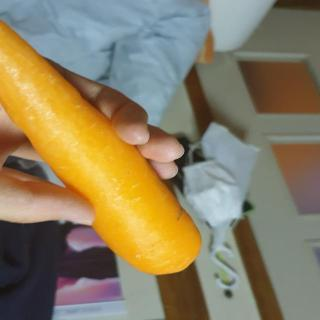carrot: (0, 18, 204, 279)
